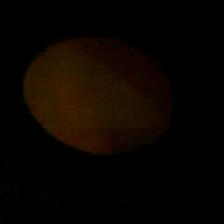fertile: (15, 29, 178, 162)
